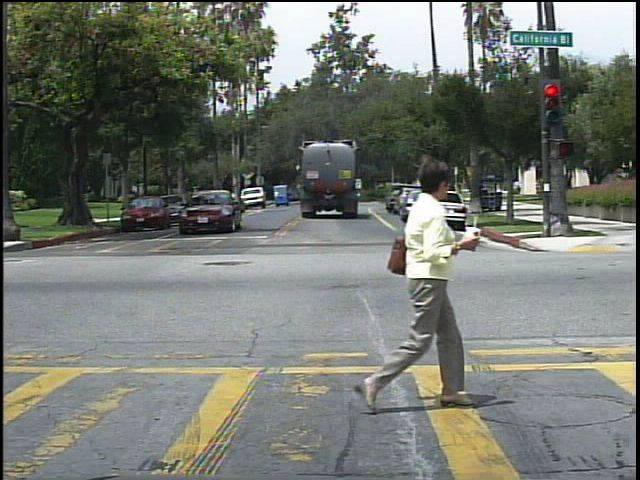person: (362, 145, 482, 417), (514, 180, 527, 199)
